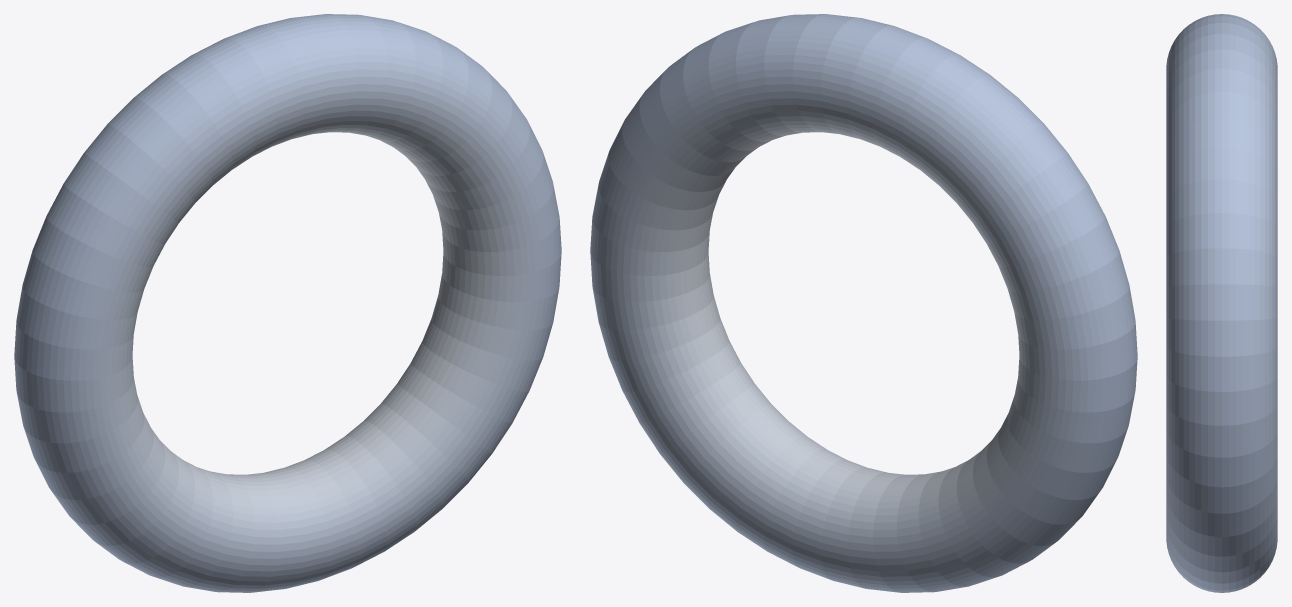
3 views of the same model, side by side, from view 1: azimuth 30°, elevation 25°; view 2: azimuth 150°, elevation 25°; view 3: azimuth 270°, elevation 25° (orthographic). The views are drawn at different scales.
Visible parts, largest first — view 1: world; view 2: world; view 3: world.
Boxes of the visible parts, bbox=[...] form: world: bbox=[14, 14, 561, 592]; world: bbox=[590, 14, 1137, 592]; world: bbox=[1166, 14, 1277, 592].
Size of the model in its own units: 25.6 by 25.55 by 4.92.
